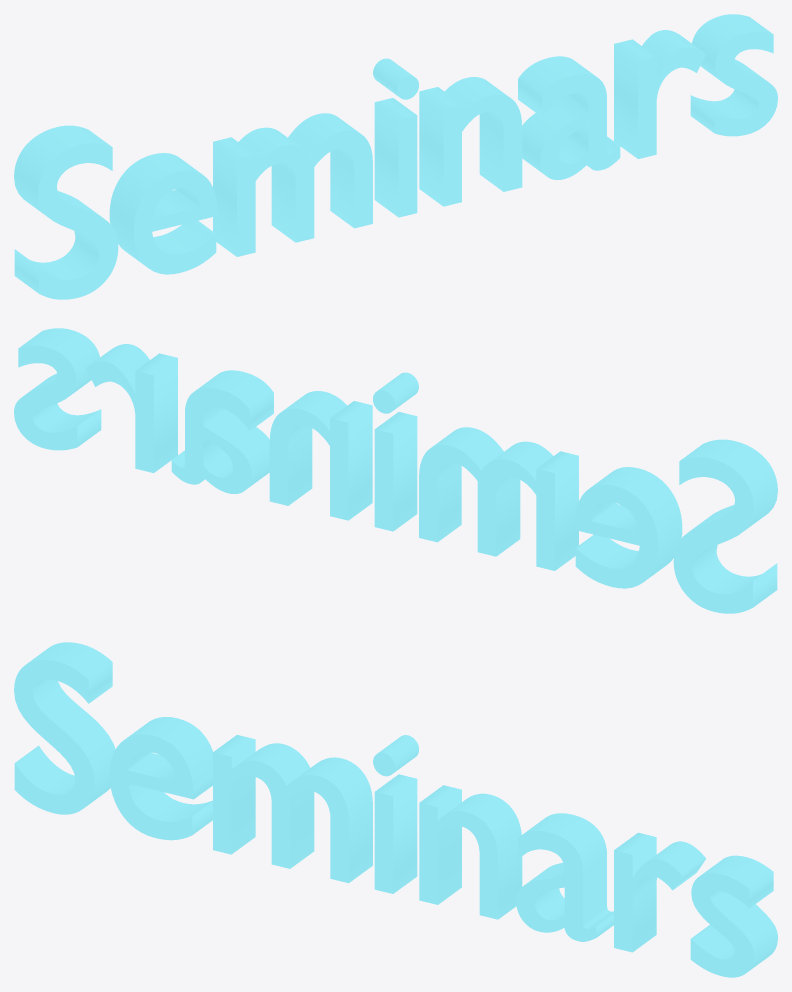
The model's file is semtext.glb.
3 views of the same model, one above another, from view 1: azimuth 30°, elevation 25°; view 2: azimuth 150°, elevation 25°; view 3: azimuth 330°, elevation 25° (orthographic).
Parts seen in each view (by area): view 1: Text; view 2: Text; view 3: Text.
Boxes of the visible parts, box(x1,y1,x2,y2) form: Text: box(14, 14, 777, 299); Text: box(14, 328, 777, 613); Text: box(14, 642, 777, 977).
Bounding box in the file's own units: 3.56 × 0.7 × 0.2.
